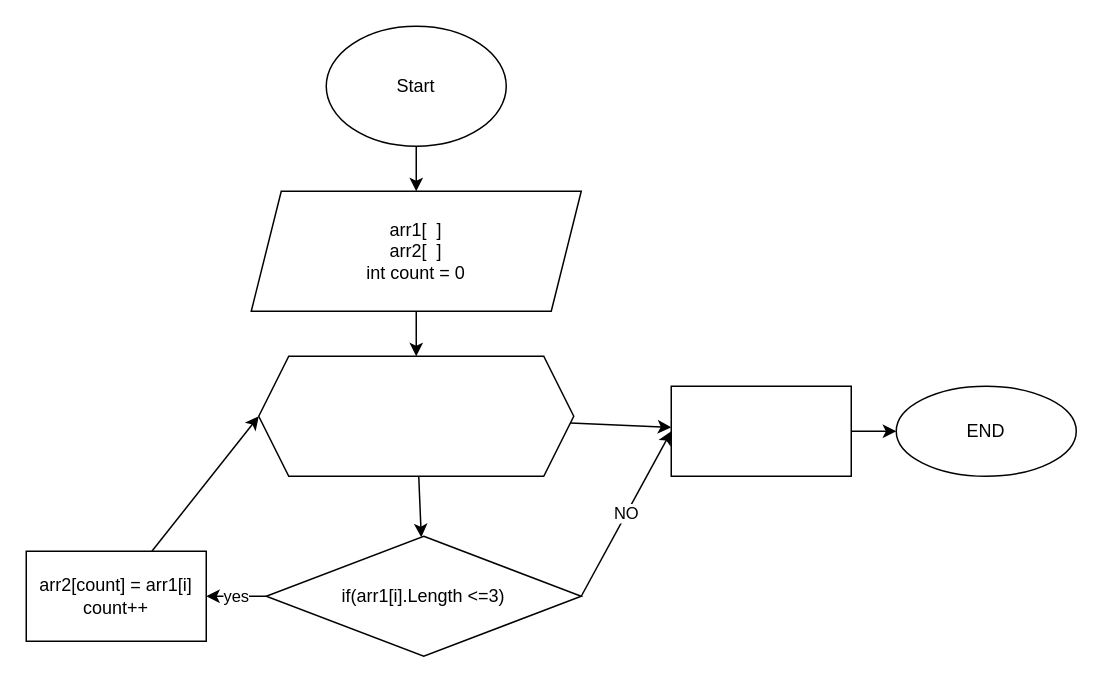
This 1103x683 diagram has some shape labels left out. The box of each missing label's shape, as (x1, y1, x2, y2) in pixels:
for(int i =0; i<arr1.Length; i++: (257, 355, 574, 476)
VtoroyArray PrintArray(arr2): (670, 385, 851, 476)
